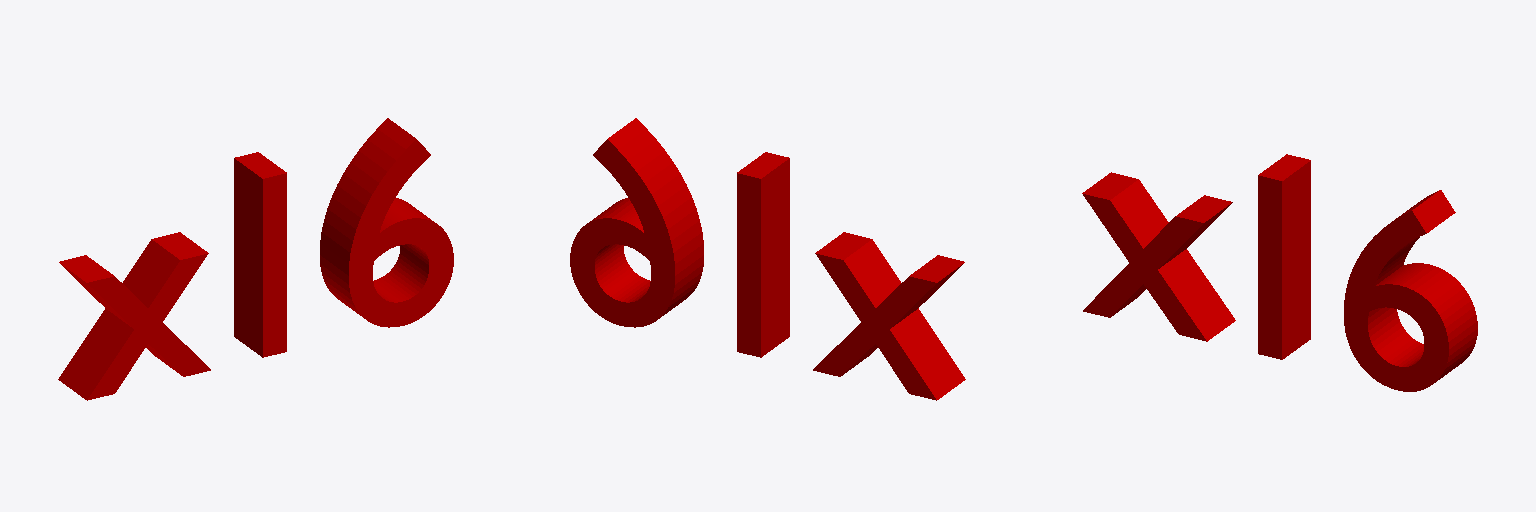
The picture shows the model from 3 angles: view 1: azimuth 30°, elevation 25°; view 2: azimuth 150°, elevation 25°; view 3: azimuth 330°, elevation 25°; orthographic projection.
Parts seen in each view (by area): view 1: Text_CUText; view 2: Text_CUText; view 3: Text_CUText.
Boxes of the visible parts, x1=… form: Text_CUText: x1=58, y1=118, x2=453, y2=400; Text_CUText: x1=570, y1=118, x2=965, y2=400; Text_CUText: x1=1082, y1=154, x2=1477, y2=391.
Size of the model in its own units: 1.47 by 0.7 by 0.2.